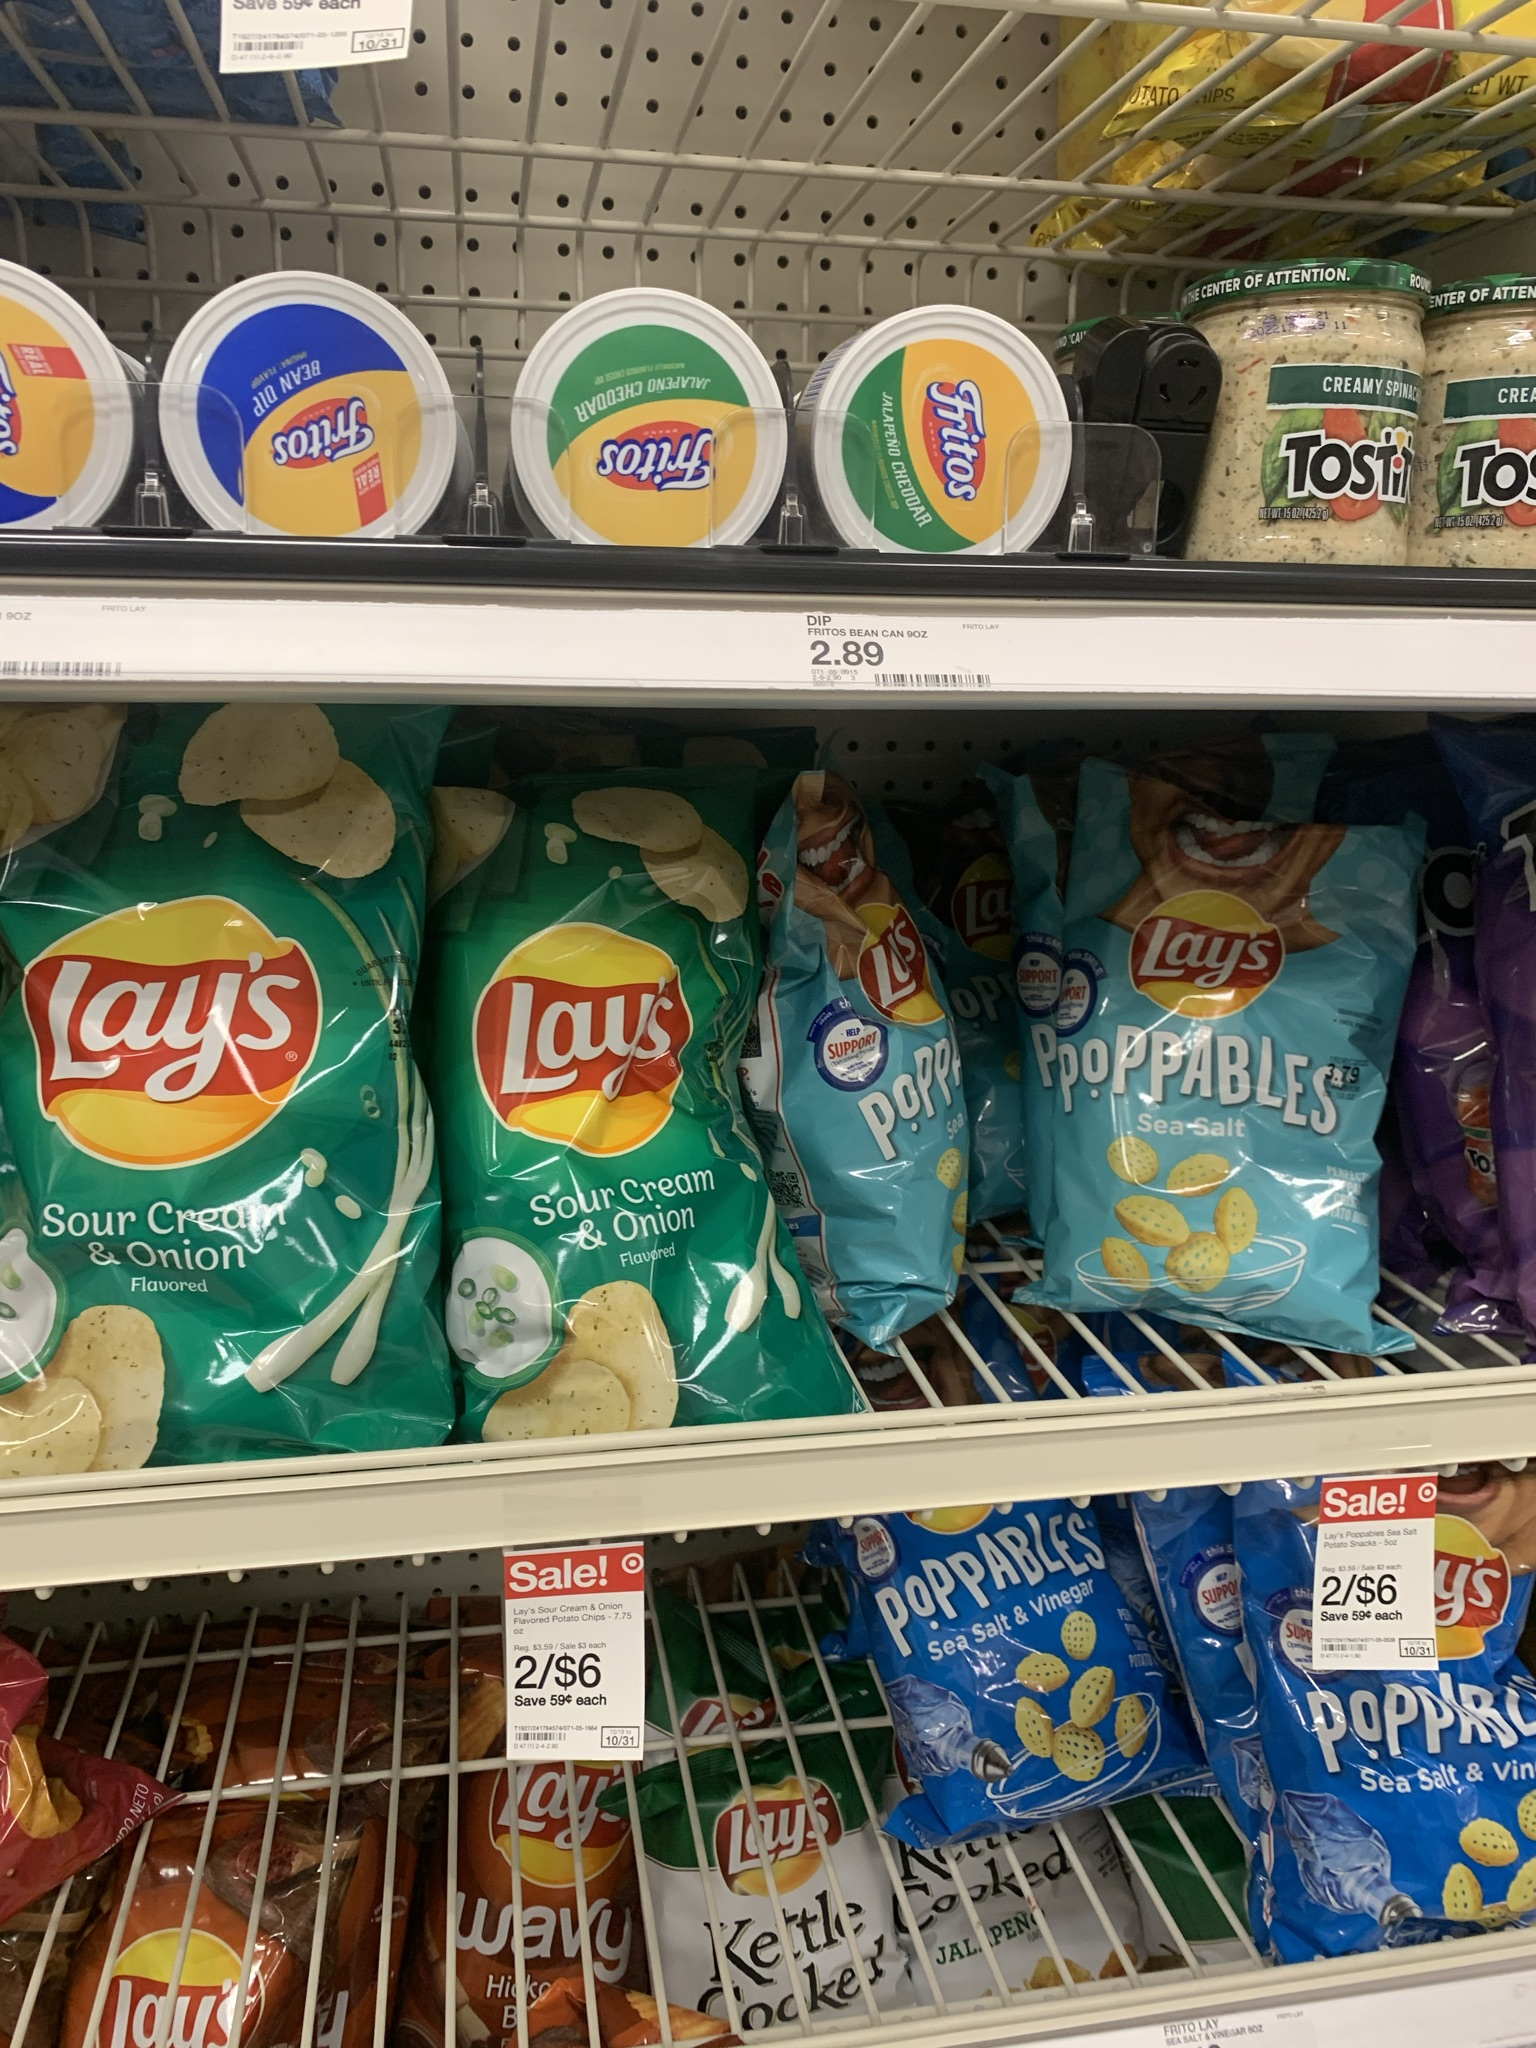lays: (6, 748, 415, 1430), (444, 766, 854, 1409), (1099, 769, 1388, 1385), (1262, 1493, 1536, 1892), (794, 801, 975, 1288), (858, 1505, 1187, 1759), (902, 1784, 1154, 1995), (739, 1838, 939, 2033), (492, 1746, 607, 1996), (132, 1884, 298, 2048)
